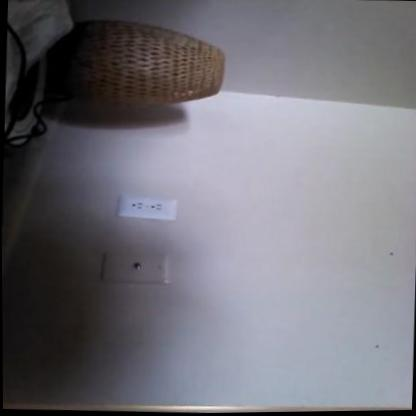OUTLET: (117, 195, 178, 222)
